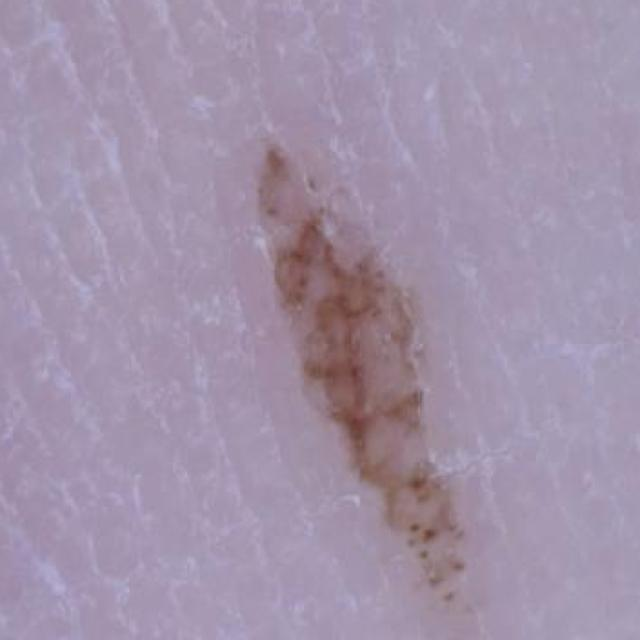NV: (280, 126, 553, 640)
